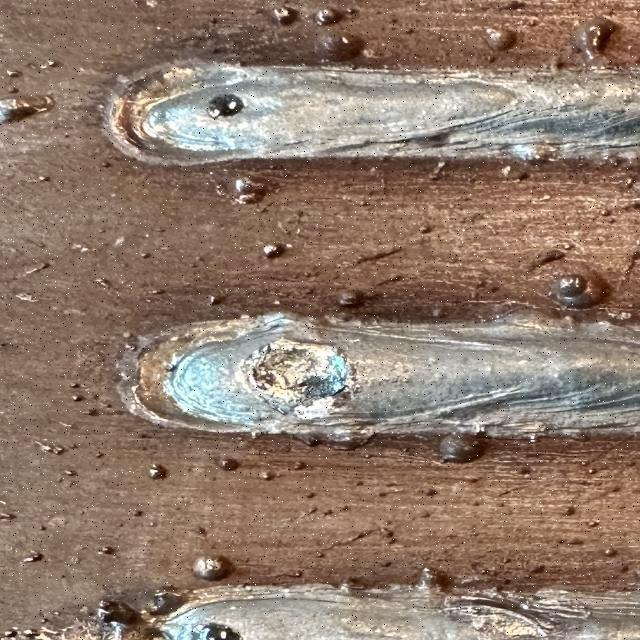Excess Reinforcement: (97, 600, 168, 640), (490, 304, 575, 330), (293, 425, 373, 450), (245, 311, 318, 329), (512, 142, 562, 164), (150, 591, 185, 616), (415, 568, 453, 590)
Spatters: (572, 16, 617, 68), (550, 272, 607, 308), (315, 31, 365, 61), (0, 95, 55, 122), (438, 432, 485, 463), (228, 176, 278, 204), (322, 528, 382, 550), (192, 556, 235, 581), (333, 289, 375, 309), (357, 246, 402, 263), (528, 249, 565, 269), (485, 28, 517, 50), (0, 628, 43, 640), (272, 6, 298, 25), (313, 9, 343, 25), (18, 262, 50, 277), (35, 441, 65, 455), (263, 244, 289, 259), (377, 274, 405, 286), (148, 464, 167, 480), (500, 0, 527, 10), (218, 459, 240, 471), (22, 552, 43, 564), (163, 359, 180, 371), (38, 60, 60, 69), (383, 532, 397, 543), (260, 471, 277, 480), (95, 278, 110, 288), (525, 16, 540, 26), (98, 546, 115, 554), (432, 309, 447, 318), (603, 549, 617, 558), (518, 466, 532, 475), (292, 461, 307, 469), (0, 513, 17, 520), (45, 610, 62, 617), (7, 85, 20, 94), (53, 446, 65, 455), (420, 225, 432, 234), (605, 549, 617, 558), (83, 409, 98, 416), (587, 520, 600, 528), (148, 289, 165, 295), (565, 506, 575, 516), (502, 166, 512, 176), (345, 8, 358, 15), (208, 295, 217, 305), (7, 71, 22, 77), (562, 242, 573, 250), (125, 344, 137, 351), (528, 434, 538, 442), (632, 181, 639, 192), (427, 489, 438, 496), (307, 508, 318, 515), (65, 470, 77, 476), (68, 382, 80, 388), (382, 561, 392, 568), (102, 161, 112, 168), (540, 194, 550, 201), (323, 510, 333, 517), (95, 452, 105, 459), (72, 395, 83, 401), (140, 252, 149, 259), (38, 176, 50, 181), (587, 468, 597, 474), (307, 492, 317, 498), (340, 505, 350, 511), (378, 491, 388, 497), (293, 571, 303, 577), (620, 565, 628, 572), (148, 521, 157, 527), (363, 454, 373, 459), (355, 481, 365, 486), (68, 444, 78, 449), (390, 18, 398, 24), (40, 618, 48, 624), (317, 552, 325, 558), (133, 511, 142, 516), (40, 525, 47, 531), (402, 448, 410, 453), (28, 64, 37, 68), (423, 514, 430, 518), (439, 34, 443, 41), (582, 461, 588, 465)
